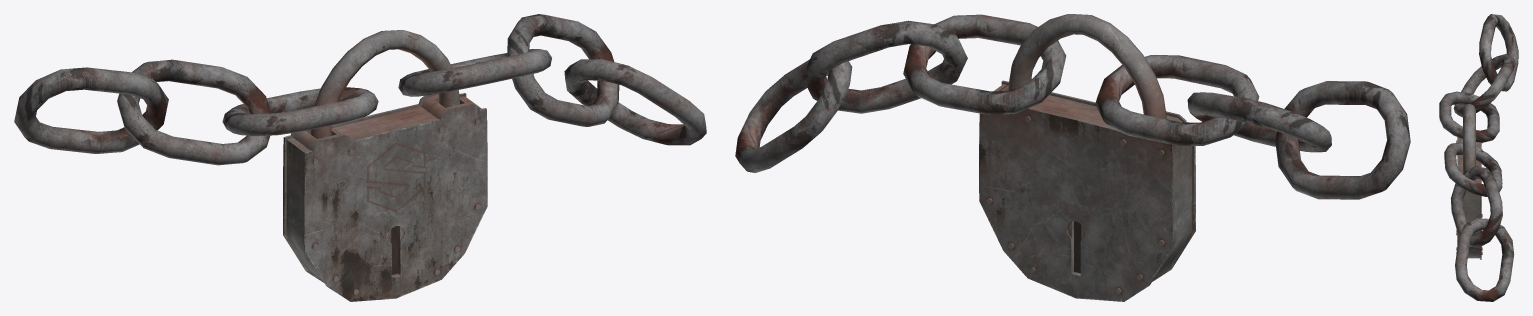
3 views of the same model, side by side, from view 1: azimuth 30°, elevation 25°; view 2: azimuth 150°, elevation 25°; view 3: azimuth 270°, elevation 25° (orthographic). The views are drawn at different scales.
Parts seen in each view (by area): view 1: lock door_0; view 2: lock door_0; view 3: lock door_0.
Boxes of the visible parts, box(x1,y1,x2,y2) form: lock door_0: box(14, 14, 706, 301); lock door_0: box(735, 14, 1410, 301); lock door_0: box(1439, 14, 1518, 301).
Size of the model in its own units: 5.66 by 2.29 by 1.06.
Materials: 1 (1 with a texture image).
